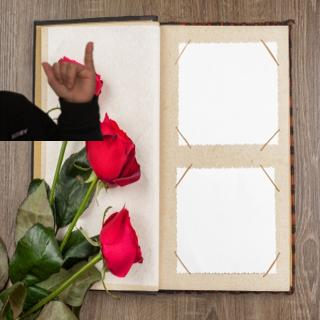HAVE: (39, 37, 98, 105)
